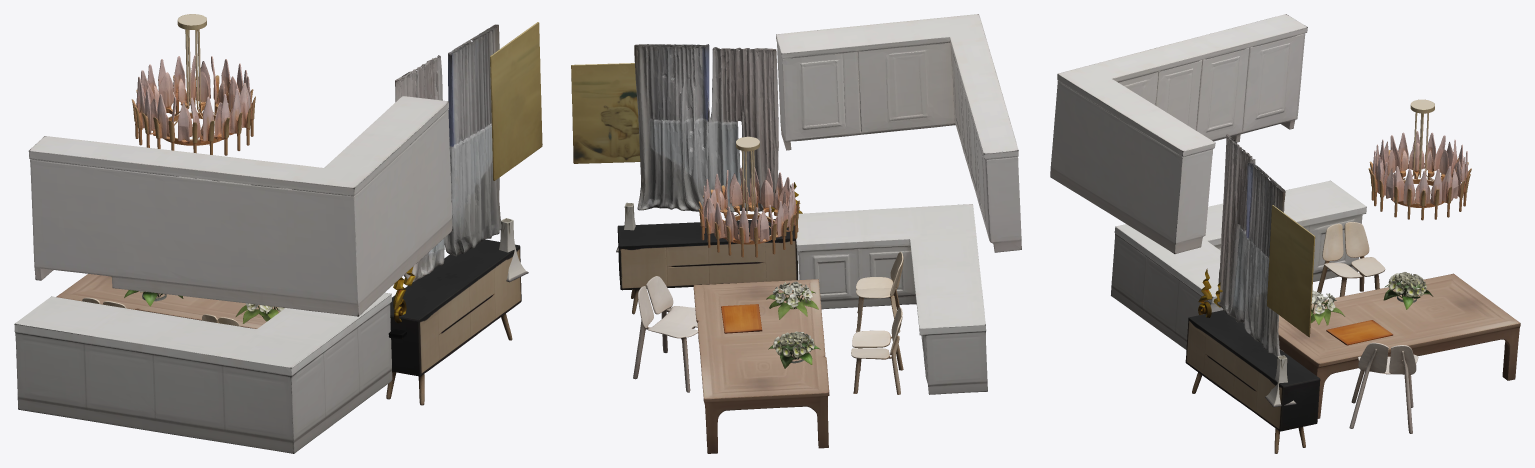
Rendered from ours.glb.
3 views of the same model, side by side, from view 1: azimuth 30°, elevation 25°; view 2: azimuth 150°, elevation 25°; view 3: azimuth 270°, elevation 25° (orthographic). The views are drawn at different scales.
Visible parts, largest first — view 1: geometry_12, geometry_13, geometry_1, geometry_11, geometry_0, geometry_4, geometry_14, geometry_9, geometry_7, geometry_8; view 2: geometry_12, geometry_13, geometry_1, geometry_14, geometry_11, geometry_4, geometry_0, geometry_2, geometry_10, geometry_5, geometry_6, geometry_8 (+1 smaller); view 3: geometry_12, geometry_14, geometry_13, geometry_1, geometry_11, geometry_0, geometry_4, geometry_10, geometry_2, geometry_6, geometry_3, geometry_8 (+2 smaller).
Boxes of the visible parts, x1,y1,x2,y2 form: geometry_12: (28,96,452,316); geometry_13: (14,292,392,453); geometry_1: (395,24,501,282); geometry_11: (386,239,521,405); geometry_0: (131,14,255,155); geometry_4: (490,22,542,180); geometry_14: (56,274,280,328); geometry_9: (499,218,528,282); geometry_7: (388,267,415,339); geometry_8: (235,303,284,323); geometry_12: (776,14,1021,252); geometry_13: (794,204,987,394); geometry_1: (634,44,778,212); geometry_14: (693,279,829,453); geometry_11: (617,219,798,314); geometry_4: (571,63,640,163); geometry_0: (698,136,799,257); geometry_2: (633,276,698,392); geometry_10: (851,307,903,394); geometry_5: (856,252,903,332); geometry_6: (768,331,820,368); geometry_8: (766,281,818,319); geometry_12: (1050,14,1307,253); geometry_14: (1278,273,1520,418); geometry_13: (1111,180,1366,349); geometry_1: (1217,134,1285,357); geometry_11: (1185,310,1320,453); geometry_0: (1368,99,1471,220); geometry_4: (1267,205,1315,337); geometry_10: (1317,222,1385,296); geometry_2: (1349,342,1418,433); geometry_6: (1383,272,1433,309); geometry_3: (1326,320,1392,345); geometry_8: (1310,290,1344,325).
Bounding box in the file's own units: 2.07 × 1.29 × 1.93.
15 materials, 15 textured.
